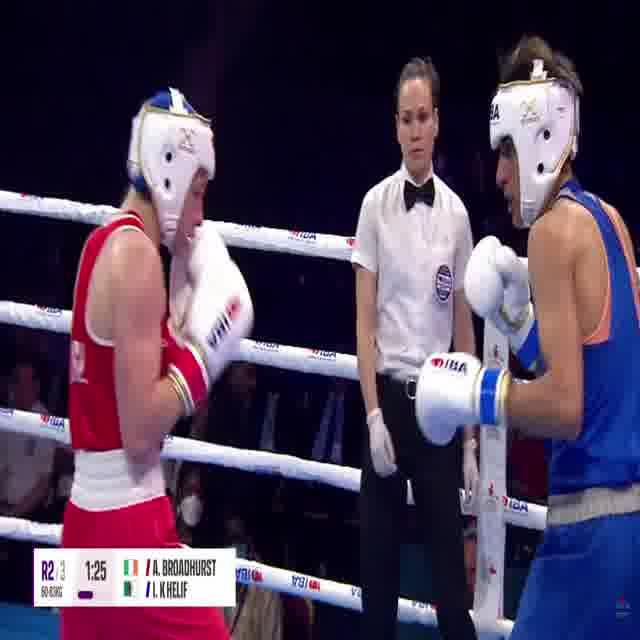blue-player: (414, 30, 640, 639)
red-player: (55, 84, 255, 640)
referee: (348, 51, 484, 640)
